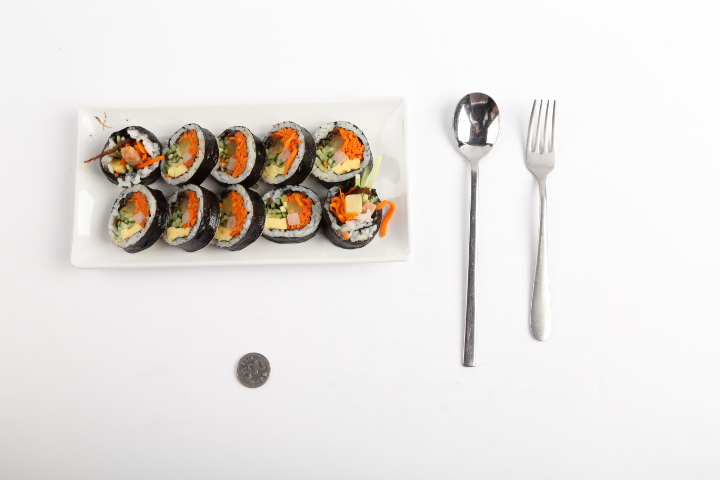dish: (69, 98, 409, 269)
ref_coin: (237, 352, 271, 388)
ref_fork: (525, 98, 556, 182)
ref_spoon: (453, 91, 500, 167)
김밥: (100, 120, 383, 252)
